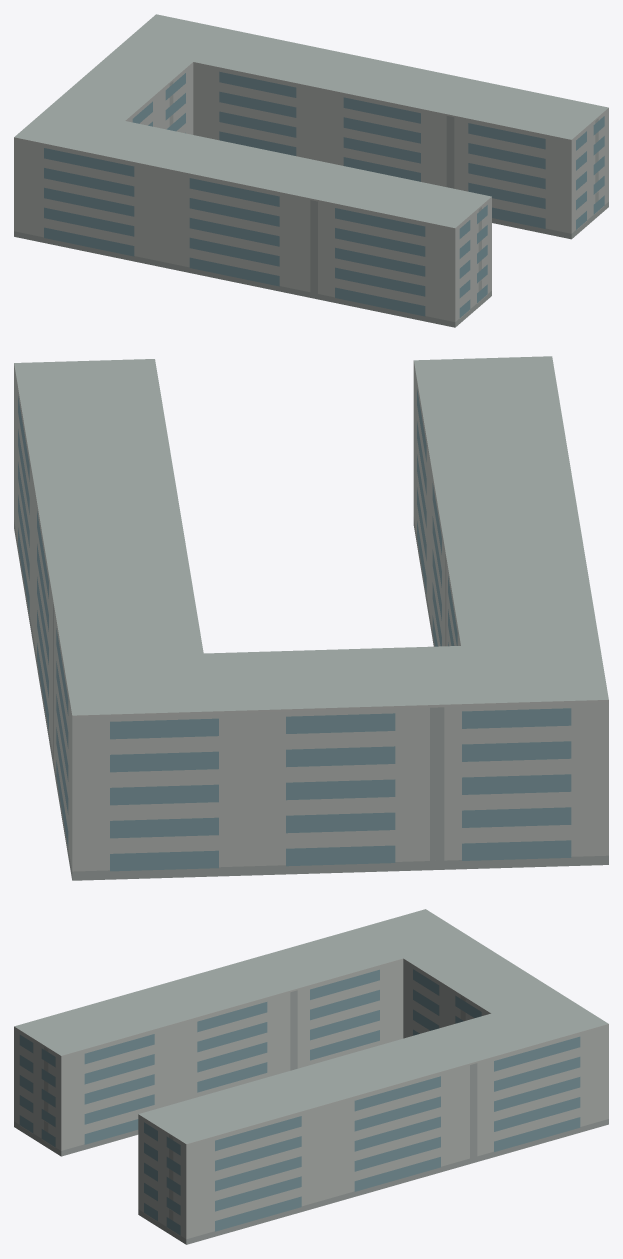
Rendered from residential-37fa8234-b091-46b2-9a87-aa452a3a2517.glb.
3 renders of one model, top to bottom at view 1: azimuth 30°, elevation 25°; view 2: azimuth 150°, elevation 25°; view 3: azimuth 270°, elevation 25°, orthographic. The views are drawn at different scales.
Parts seen in each view (by area): view 1: residential-37fa8234-b091-46b2-9a87-aa452a3a2517.tmp; view 2: residential-37fa8234-b091-46b2-9a87-aa452a3a2517.tmp; view 3: residential-37fa8234-b091-46b2-9a87-aa452a3a2517.tmp.
Part boxes in pixels (box(x1,y1,x2,y2)): residential-37fa8234-b091-46b2-9a87-aa452a3a2517.tmp: box(14, 14, 608, 327); residential-37fa8234-b091-46b2-9a87-aa452a3a2517.tmp: box(14, 356, 608, 880); residential-37fa8234-b091-46b2-9a87-aa452a3a2517.tmp: box(14, 909, 608, 1244).
Size of the model in its own units: 76.48 by 15.25 by 81.74.
